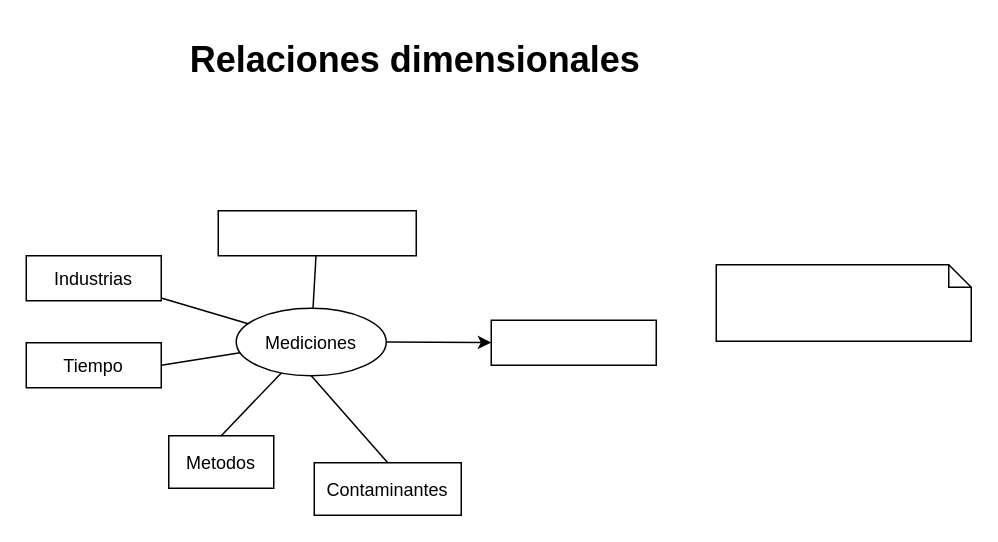
Some shapes in this 998 by 542 pixel diagram are drawn without their labels. The shapes that lost their labels are listed below. From the top down, each one's centre as x and y in pixels, then its label:
At [316,232]: "UbicacionGeografica".
At [843,302]: "Notas:".
At [573,342]: "M_Mediciones".
